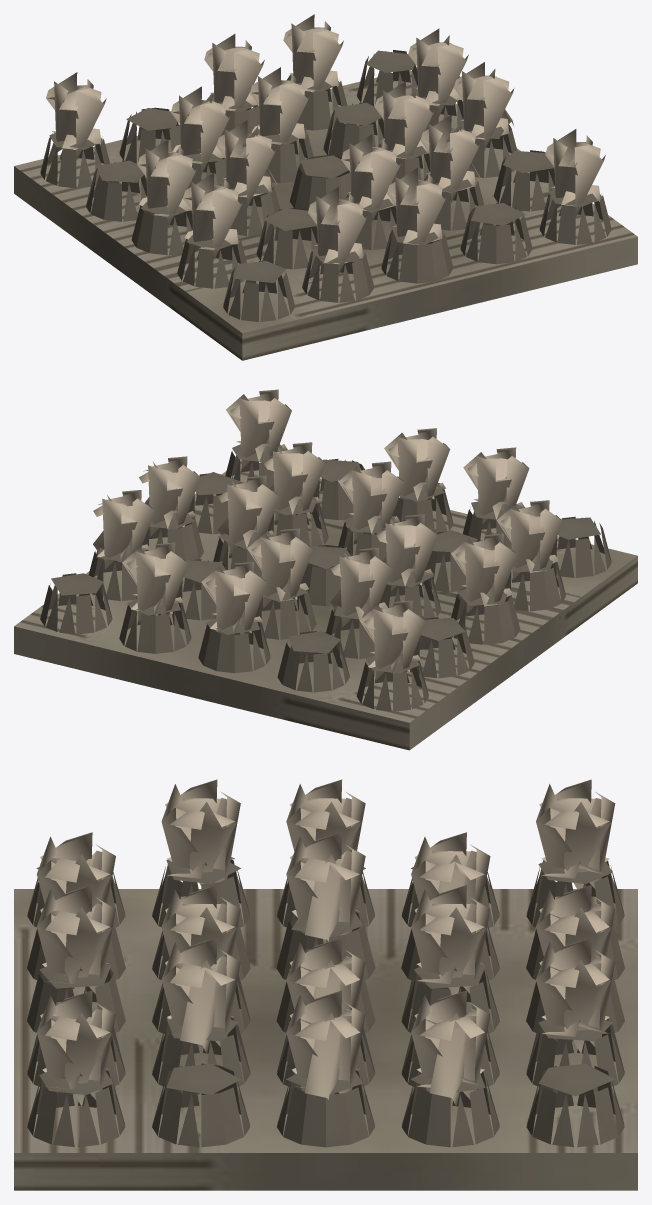
File: FD18_EggTray.glb
3 renders of one model, top to bottom at view 1: azimuth 30°, elevation 25°; view 2: azimuth 150°, elevation 25°; view 3: azimuth 270°, elevation 25°, orthographic. The views are drawn at different scales.
Parts seen in each view (by area): view 1: FD18_EggTray; view 2: FD18_EggTray; view 3: FD18_EggTray.
Boxes of the visible parts, <box> form: FD18_EggTray: <box>14,14,637,360</box>; FD18_EggTray: <box>14,389,637,750</box>; FD18_EggTray: <box>14,779,637,1190</box>.
Bounding box in the file's own units: 0.3 × 0.0864 × 0.3.
Materials: 2 (2 with a texture image).
